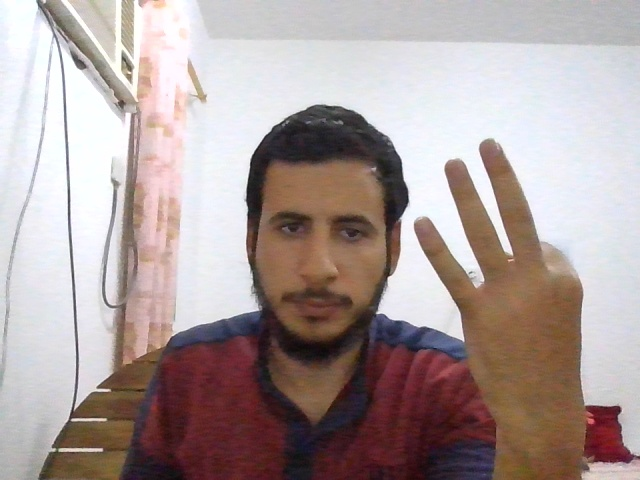Three: (415, 138, 590, 440)
